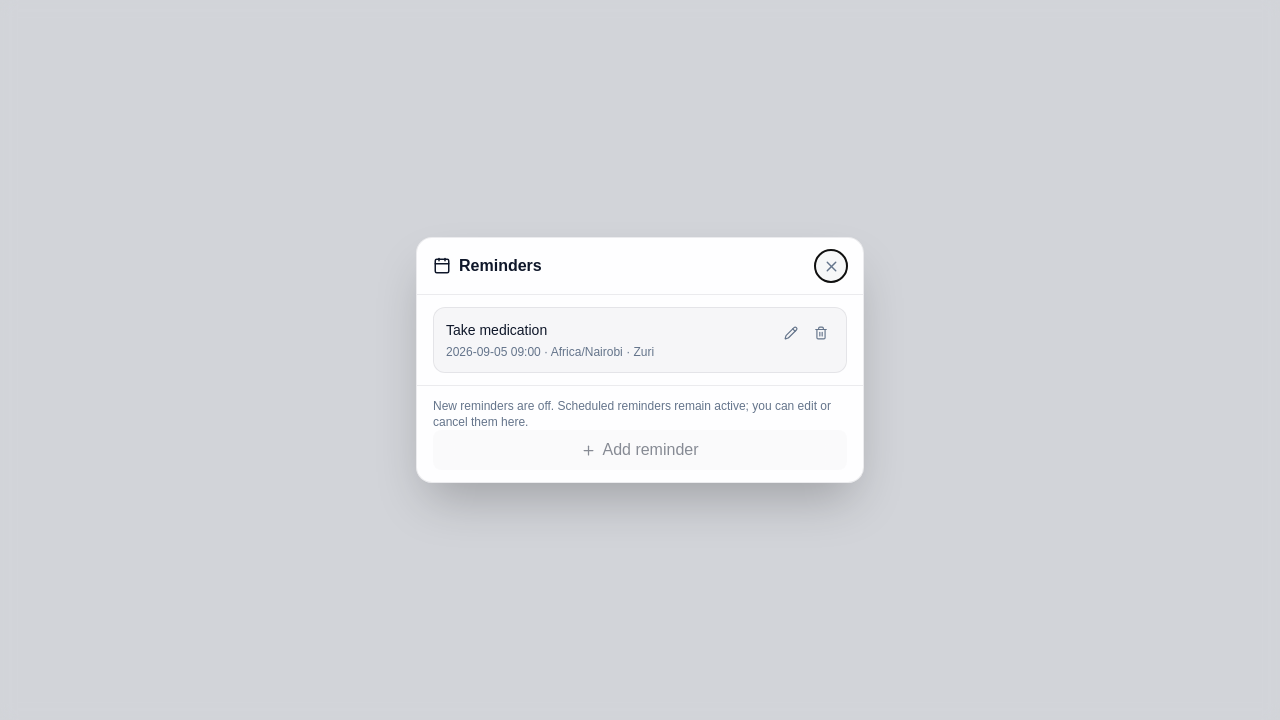
ReminderPanel › keeps scheduled reminder management when creation is off
Expected: the text "Take medication" is shown, [446,322,547,338]
Expected: the button with test id "reminder-add-toggle" is disabled, [433,430,847,470]
Click the button named "Delete reminder". click: (821, 333)
box: [808,320,834,346]
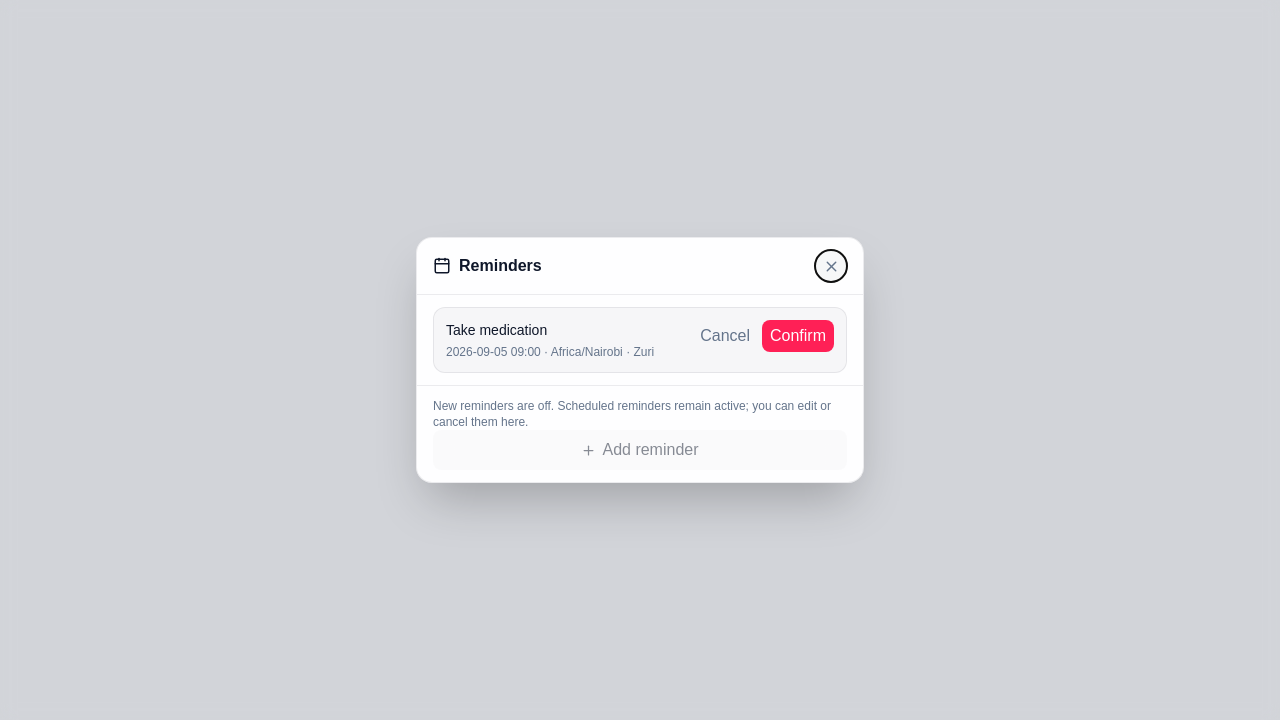
Click the button "Confirm". click: (798, 336)
box: [762,320,834,352]
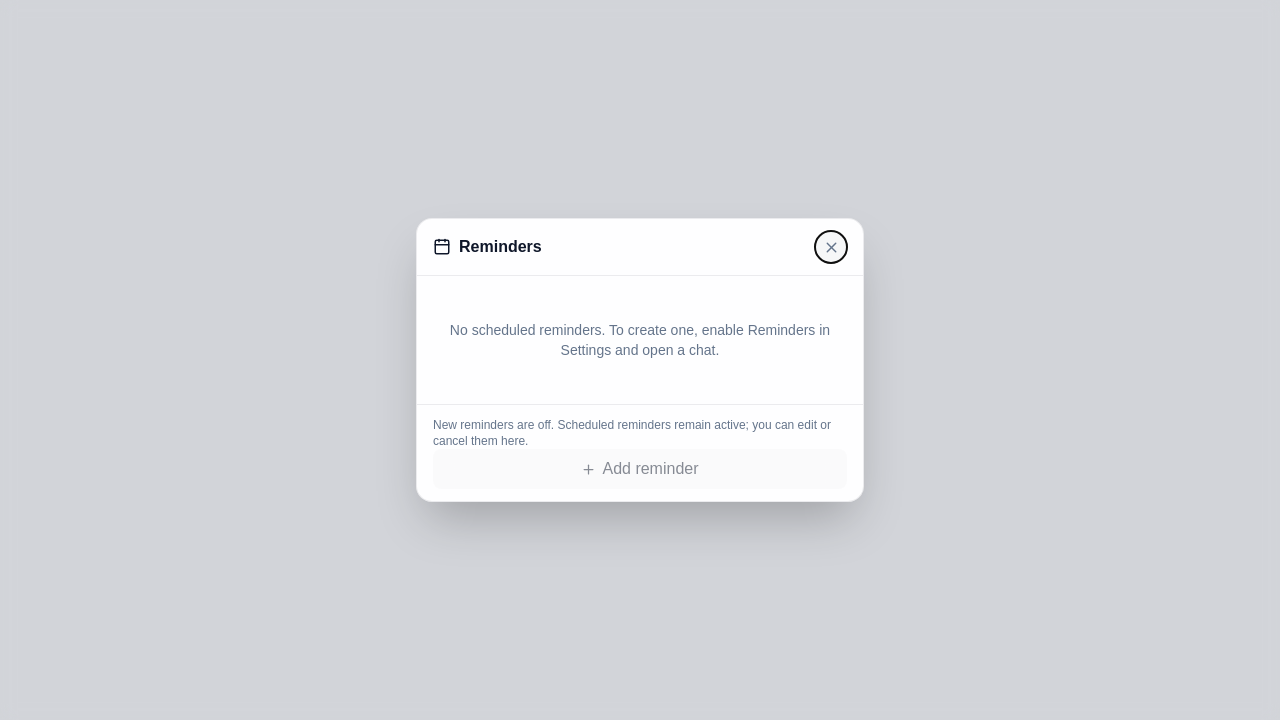
Now the text "Take medication" is gone
